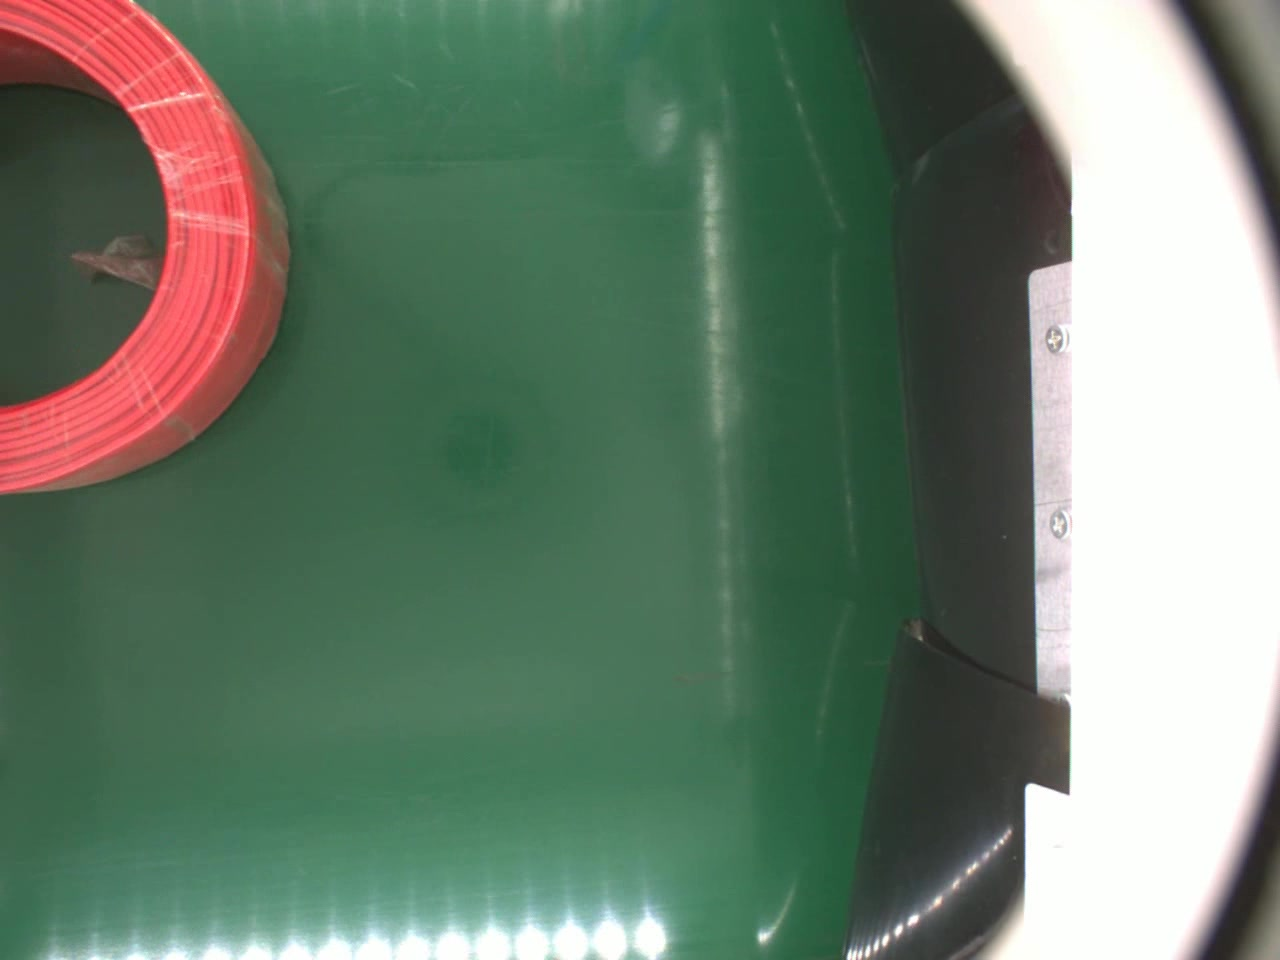red: (0, 0, 295, 499)
